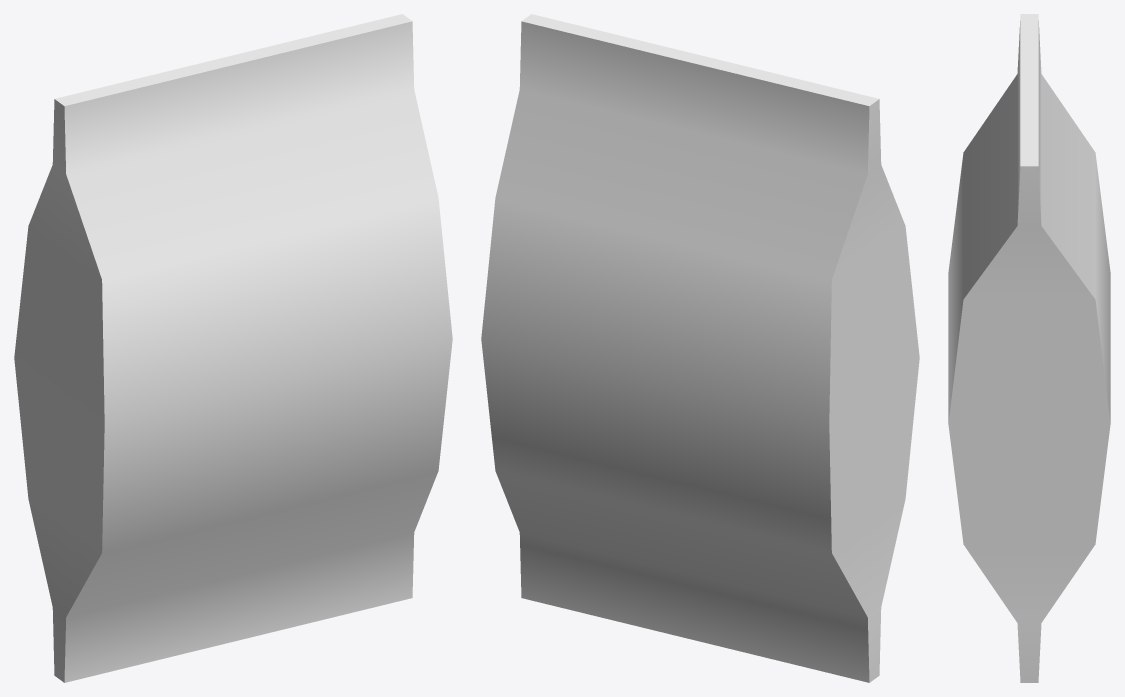
Rendered from milk.glb.
The picture shows the model from 3 angles, left to right: view 1: azimuth 30°, elevation 25°; view 2: azimuth 150°, elevation 25°; view 3: azimuth 270°, elevation 25°; orthographic projection. The views are drawn at different scales.
Visible parts, largest first — view 1: Milk; view 2: Milk; view 3: Milk.
Boxes of the visible parts, x1,y1,x2,y2 form: Milk: (14,14,452,682); Milk: (481,14,919,682); Milk: (948,14,1110,682).
Bounding box in the file's own units: 0.12 × 0.19 × 0.054.
1 material, 1 textured.
